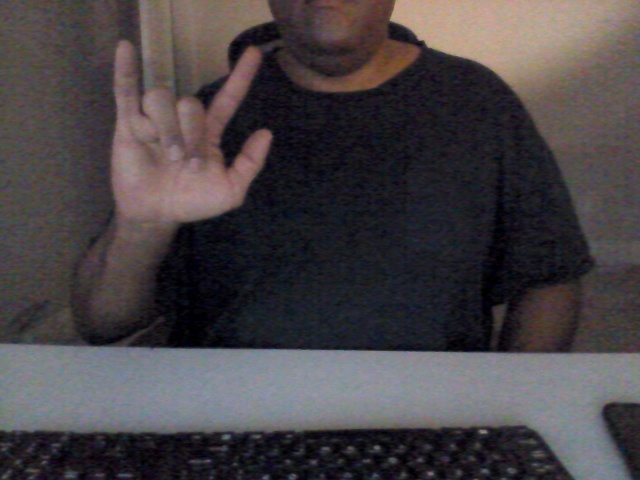i_love_you: (106, 33, 278, 220)
